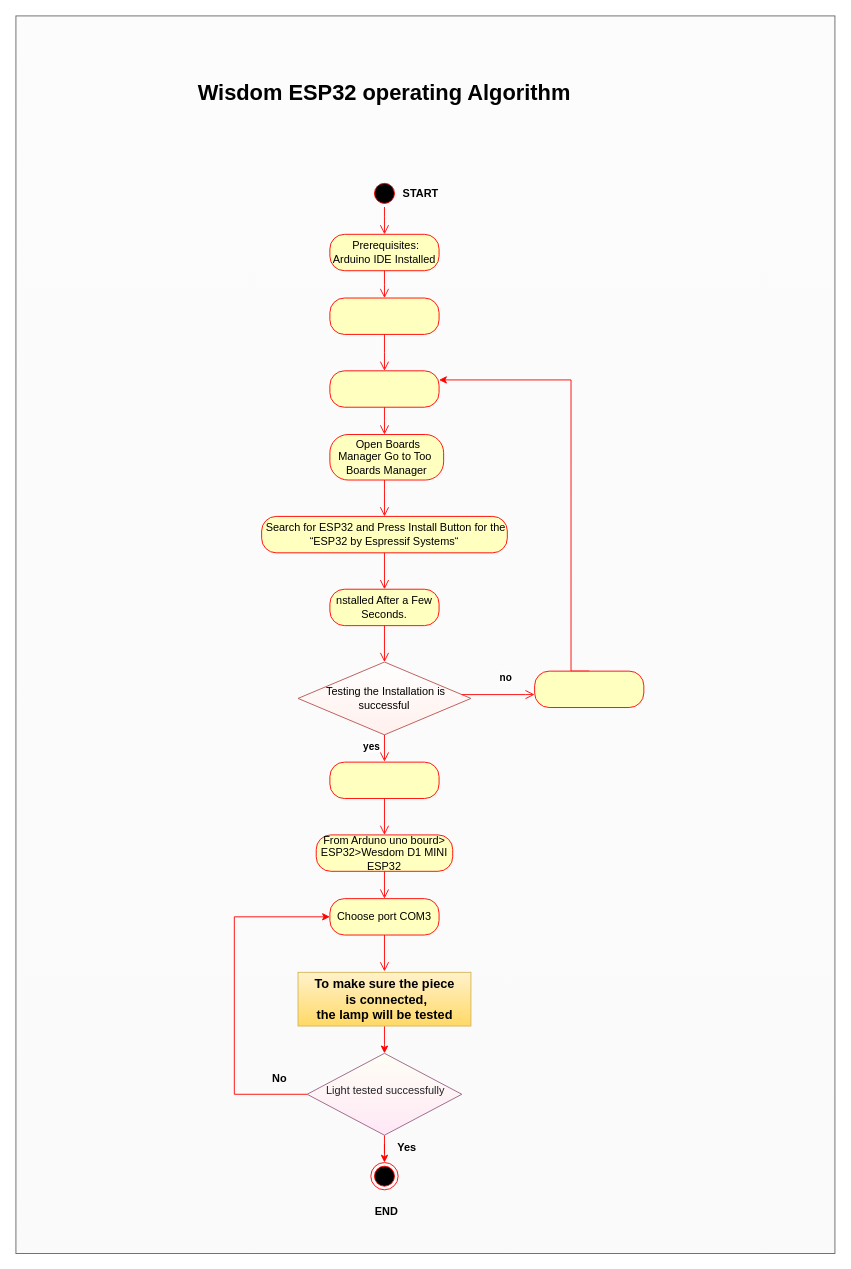
This 851x1269 diagram has some shape labels left out. Here are the shapes that lost their labels. From the top down, the box of each, then its label:
(329, 297, 439, 334): Installing ESP32 Add-on in Arduino IDE
(329, 370, 439, 407): Enter Board Manager URLs
(534, 670, 644, 708): Try again
(329, 761, 439, 799): connect ESP32 to USP wire
